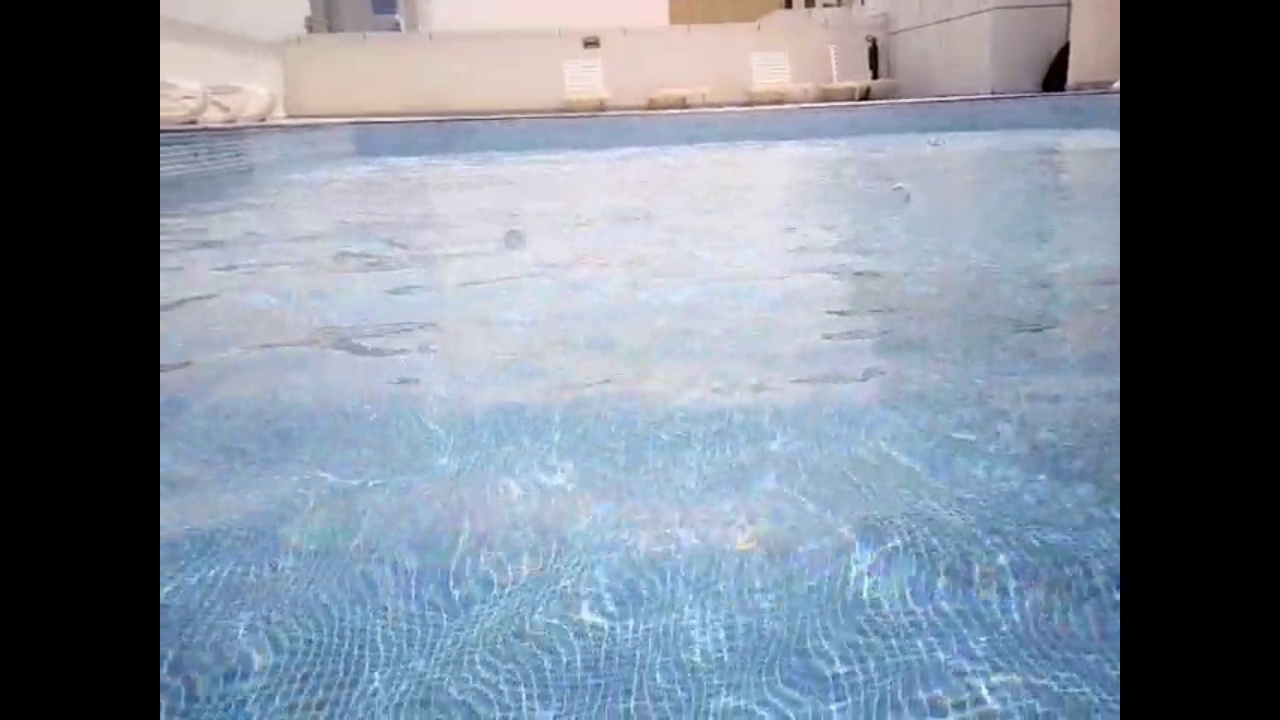debris: (498, 223, 530, 254), (883, 180, 914, 211), (925, 131, 947, 149)
